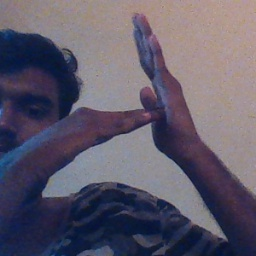Z: (83, 8, 200, 167)
